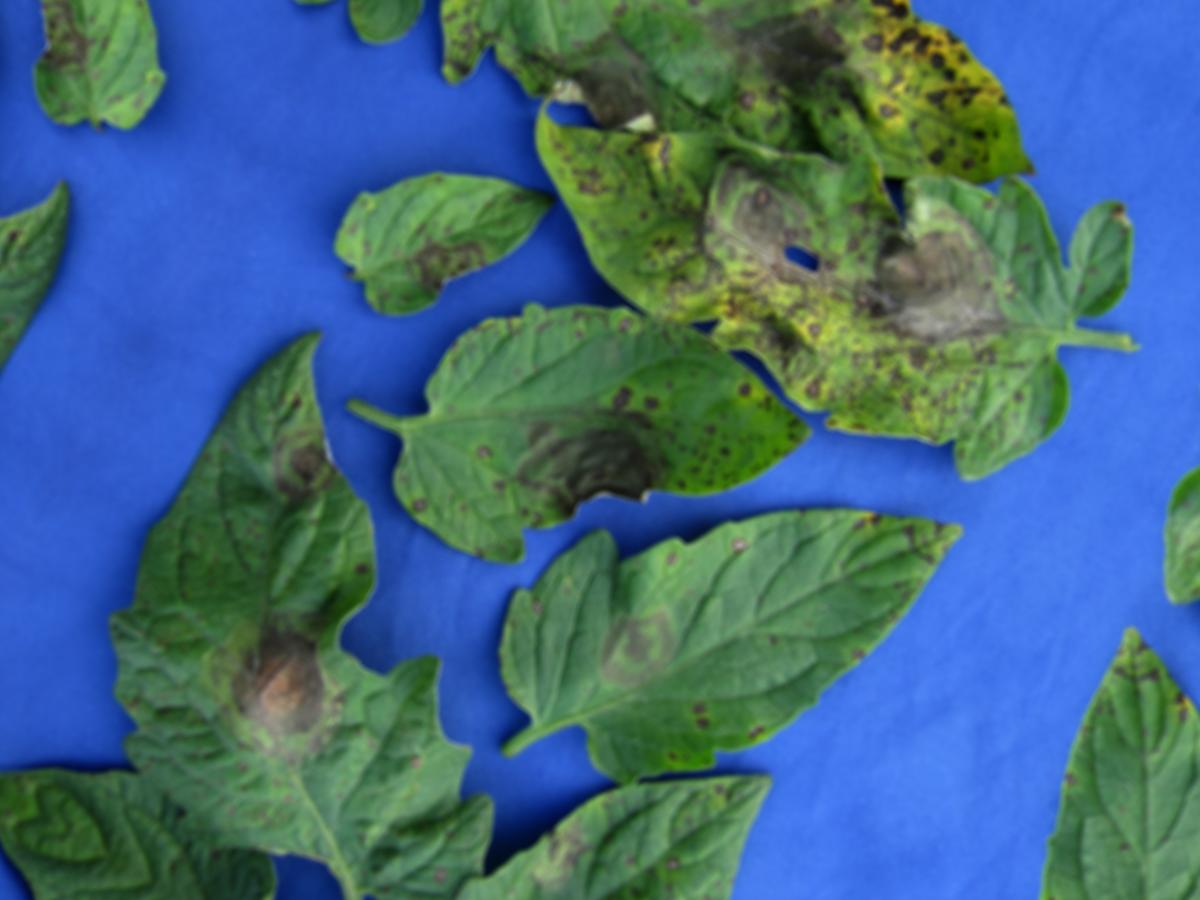Tomato leaf late blight: (0, 280, 667, 900), (467, 0, 1198, 558), (372, 0, 1122, 400), (318, 197, 854, 699), (468, 352, 971, 879), (400, 670, 794, 900)
